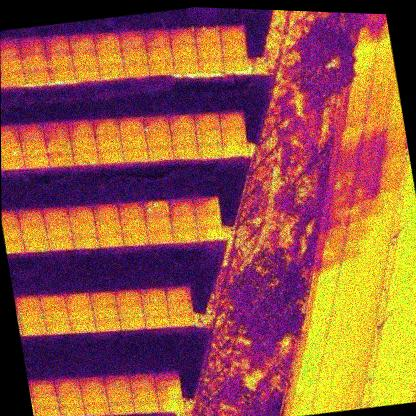Hotspot: (143, 112, 170, 134), (67, 117, 94, 139), (169, 26, 196, 48), (142, 197, 170, 218), (140, 284, 167, 305), (98, 60, 125, 81), (194, 24, 221, 45), (73, 146, 99, 167), (22, 234, 49, 254), (195, 125, 222, 145), (48, 63, 75, 83), (171, 42, 197, 62), (92, 302, 119, 321), (121, 45, 148, 64), (172, 141, 198, 160), (21, 136, 47, 155), (221, 138, 247, 156), (155, 383, 181, 401), (117, 302, 144, 319), (58, 401, 85, 416), (1, 140, 22, 159)
Normal: (20, 48, 49, 71), (42, 119, 70, 142), (17, 120, 45, 143), (45, 47, 73, 70), (143, 26, 171, 49), (118, 28, 146, 51), (93, 29, 121, 52), (68, 31, 96, 54), (92, 115, 119, 137), (43, 32, 70, 54), (94, 130, 122, 151), (193, 109, 219, 131), (17, 305, 44, 326), (115, 287, 142, 308), (147, 226, 174, 247), (122, 227, 149, 248), (168, 195, 195, 216), (67, 202, 94, 223), (42, 204, 69, 225), (17, 206, 44, 227), (147, 142, 174, 163), (123, 144, 150, 165), (97, 145, 124, 166), (218, 108, 245, 129), (118, 114, 145, 135), (71, 46, 98, 67), (18, 34, 45, 55), (53, 375, 80, 396), (28, 376, 55, 397), (144, 128, 172, 148), (129, 371, 157, 391), (48, 148, 74, 169), (170, 125, 196, 146), (169, 111, 195, 132), (24, 64, 50, 85), (195, 39, 221, 60), (143, 310, 170, 330), (20, 318, 47, 338), (42, 304, 69, 324), (165, 284, 192, 304), (90, 289, 117, 309), (64, 289, 91, 309), (171, 224, 198, 244), (96, 230, 123, 250), (72, 232, 99, 252), (47, 233, 74, 253), (195, 208, 222, 228), (170, 210, 197, 230), (120, 213, 147, 233), (95, 215, 122, 235), (193, 195, 220, 215), (117, 199, 144, 219), (92, 201, 119, 221), (120, 129, 147, 149), (45, 135, 72, 155), (123, 59, 150, 79), (96, 46, 123, 66), (103, 372, 130, 392), (72, 63, 100, 82), (130, 385, 158, 404), (196, 223, 222, 243), (23, 150, 49, 170), (219, 23, 245, 43), (154, 370, 180, 390), (69, 316, 96, 335), (44, 317, 71, 336), (67, 303, 94, 322), (39, 291, 66, 310), (14, 292, 41, 311), (145, 213, 172, 232), (70, 218, 97, 237), (45, 219, 72, 238), (20, 222, 47, 241), (70, 134, 97, 153), (78, 374, 105, 393), (0, 51, 23, 73), (56, 390, 84, 408), (221, 123, 246, 143), (221, 38, 246, 58), (94, 315, 120, 334), (197, 140, 223, 159), (197, 54, 223, 73), (0, 67, 26, 86), (146, 43, 172, 62), (81, 387, 107, 406), (119, 314, 146, 332), (157, 396, 184, 414), (133, 398, 160, 416), (106, 387, 133, 405), (108, 399, 136, 416), (31, 392, 59, 409), (149, 57, 174, 76), (169, 310, 195, 328), (173, 56, 199, 74), (167, 298, 194, 315), (141, 300, 168, 317), (83, 399, 110, 416), (1, 153, 25, 172), (222, 53, 247, 71), (1, 123, 20, 146), (0, 36, 20, 57), (34, 402, 60, 416)
